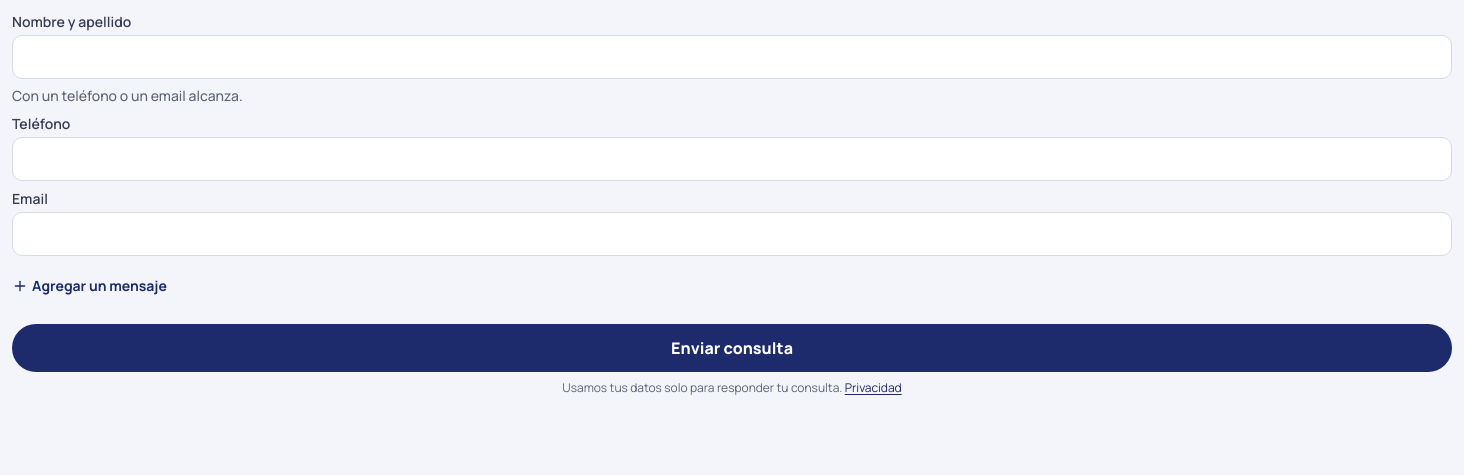
it: PropertyInquiryForm message toggle (collapsed on desktop) › keeps an opened message open, with what was typed, after an error on another field
Step 1. Click the button "Agregar un mensaje" → (89, 286), box [12, 264, 167, 308]
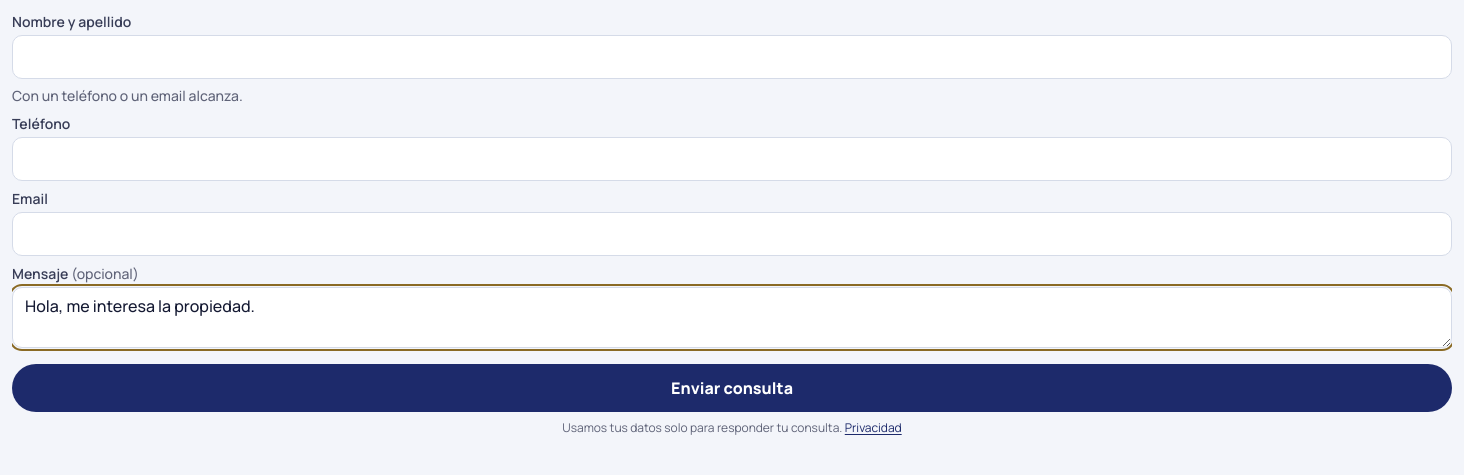
Step 2. Type "Ana" into the field labelled "Nombre y apellido" → (732, 57), box [12, 35, 1452, 79]
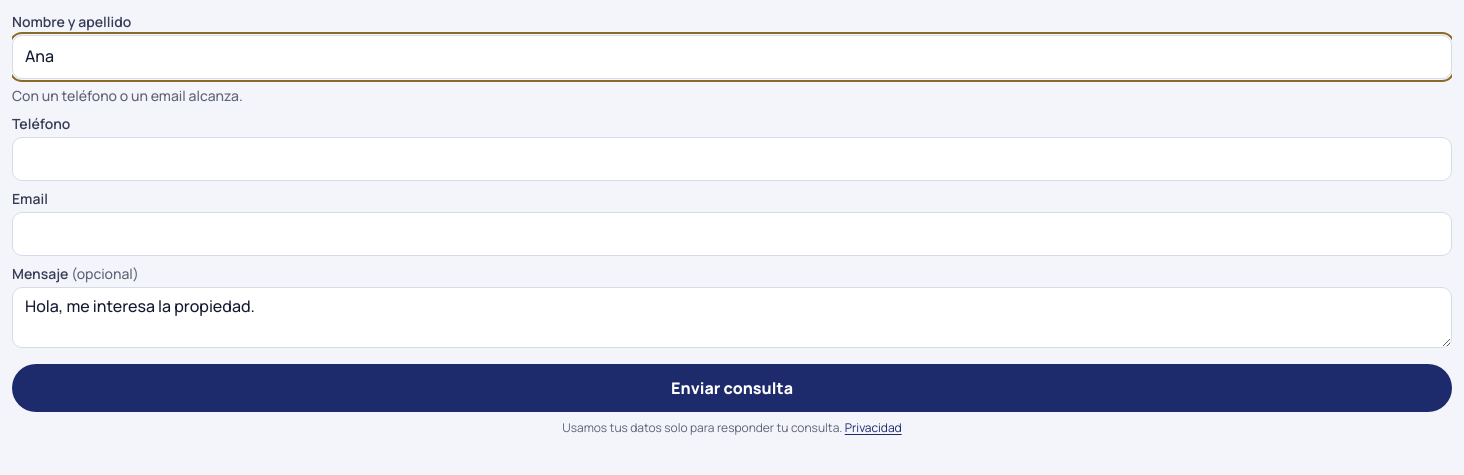
Step 3. Click the button "Enviar consulta" → (732, 388), box [12, 364, 1452, 412]
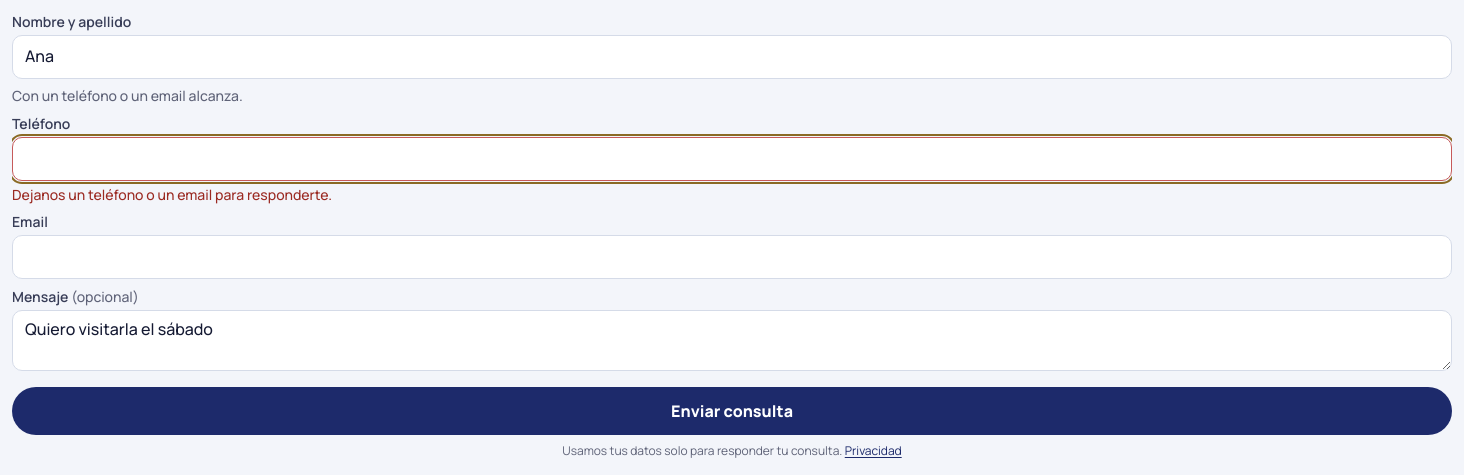
Expected: the button "Agregar un mensaje" is not shown
Result: the text "Dejanos un teléfono o un email para responderte." is shown at [12, 185, 332, 204]
Result: the text box labelled "Mensaje (opcional)" holds "Quiero visitarla el sábado" at [12, 310, 1452, 371]
